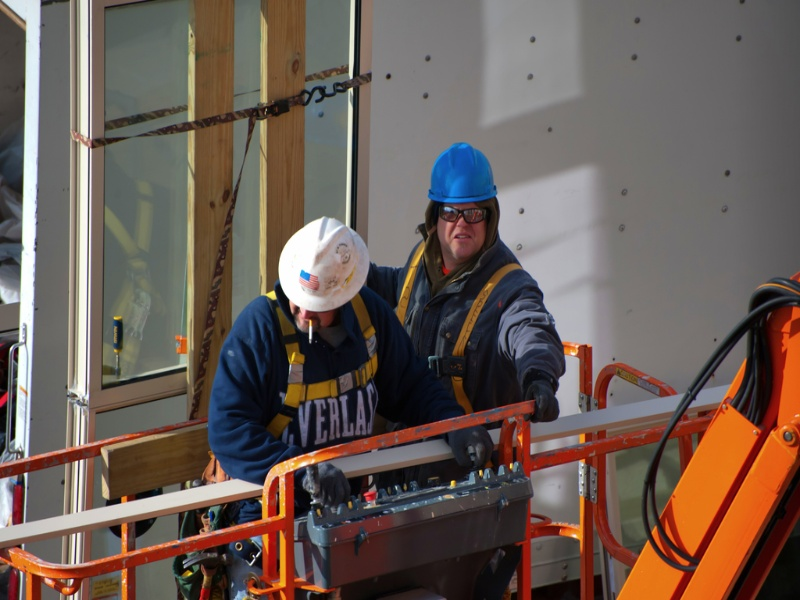helmet: (279, 217, 372, 312), (430, 142, 500, 203)
jacket: (394, 246, 524, 415), (259, 298, 385, 449)
